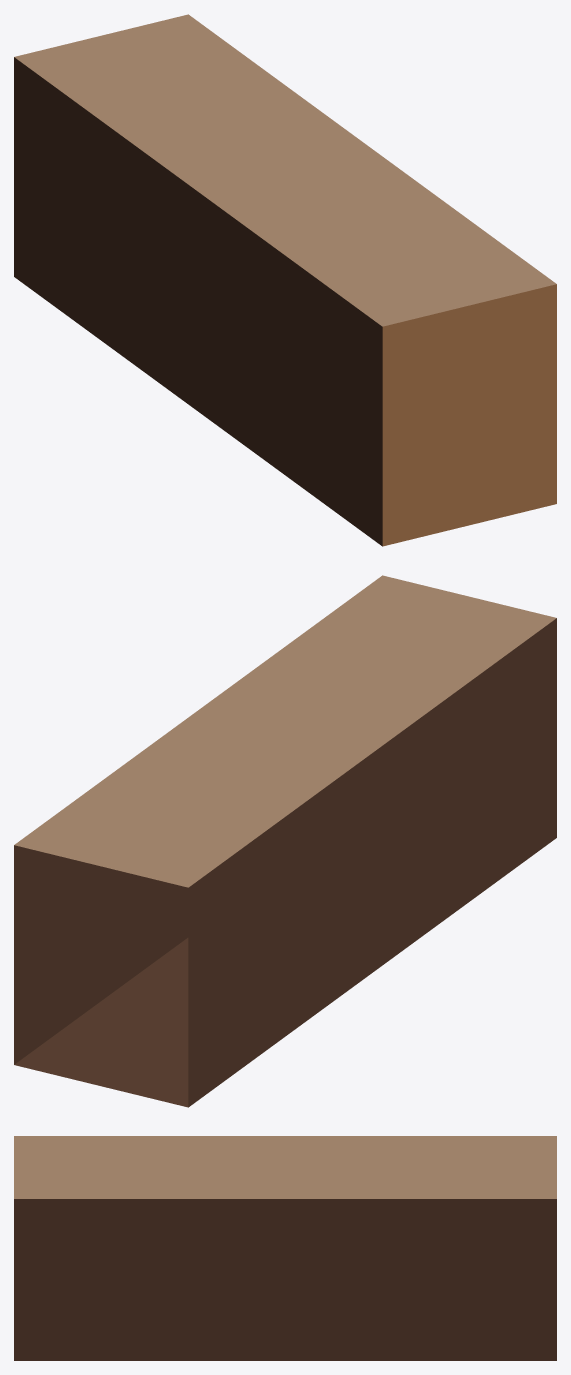
The model's file is TB_D_Bd_Wood_C.FBX.
3 views of the same model, one above another, from view 1: azimuth 30°, elevation 25°; view 2: azimuth 150°, elevation 25°; view 3: azimuth 270°, elevation 25° (orthographic). The views are drawn at different scales.
Visible parts, largest first — view 1: TB_D_Bd_Wood_C; view 2: TB_D_Bd_Wood_C; view 3: TB_D_Bd_Wood_C.
Part boxes in pixels (x1,y1,x2,y2): TB_D_Bd_Wood_C: (14, 14, 556, 546); TB_D_Bd_Wood_C: (14, 575, 556, 1107); TB_D_Bd_Wood_C: (14, 1136, 556, 1360).
Size of the model in its own units: 0.2565 by 0.3089 by 0.9384.
